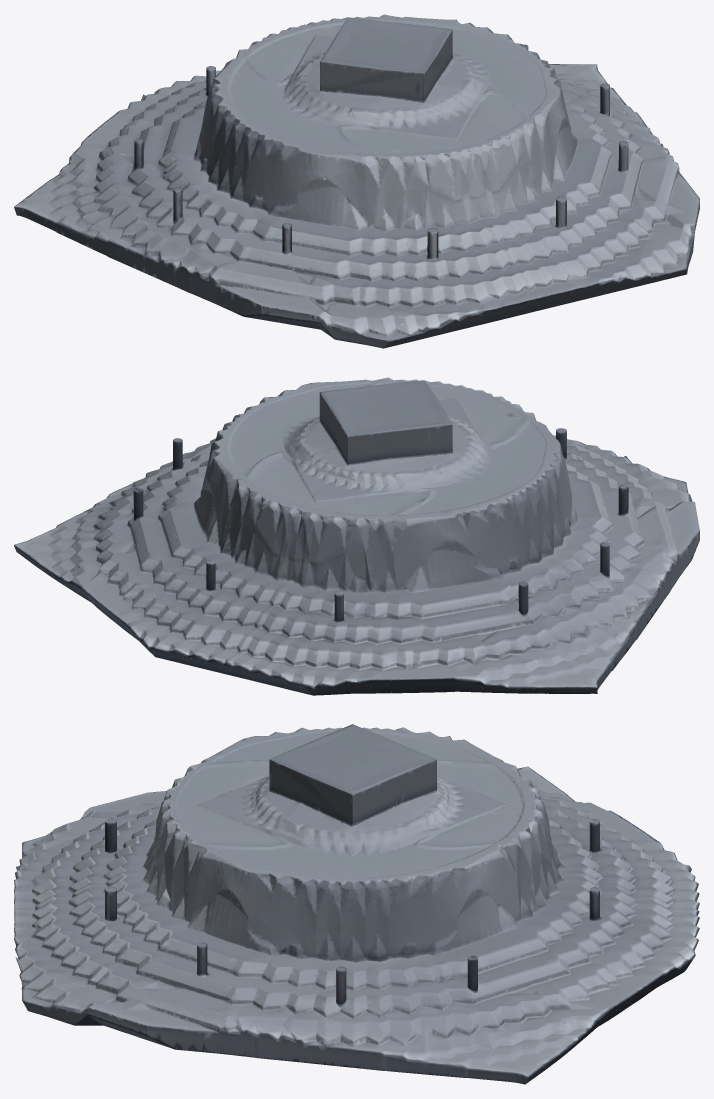
Rendered from tripo_throne_lod.glb.
3 renders of one model, top to bottom at view 1: azimuth 30°, elevation 25°; view 2: azimuth 150°, elevation 25°; view 3: azimuth 270°, elevation 25°, orthographic. The views are drawn at different scales.
Parts seen in each view (by area): view 1: tripo_node_ac384066-c07c-46e8-8485-15c1b637acea; view 2: tripo_node_ac384066-c07c-46e8-8485-15c1b637acea; view 3: tripo_node_ac384066-c07c-46e8-8485-15c1b637acea.
Part boxes in pixels (left/top/right/bottom): tripo_node_ac384066-c07c-46e8-8485-15c1b637acea: left=14, top=14, right=699, bottom=348; tripo_node_ac384066-c07c-46e8-8485-15c1b637acea: left=14, top=377, right=699, bottom=695; tripo_node_ac384066-c07c-46e8-8485-15c1b637acea: left=14, top=724, right=699, bottom=1084.
Size of the model in its own units: 0.9859 by 0.2546 by 0.9216.
1 material, 1 textured.
